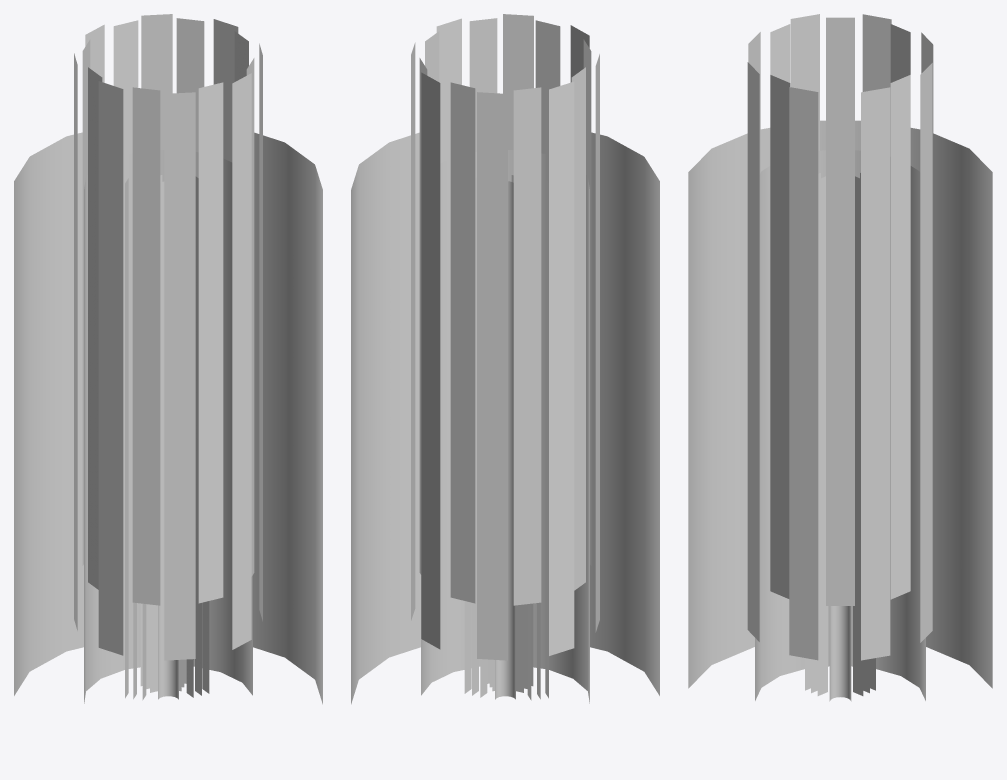
The model's file is SNOW_CYLINDER.glb.
3 views of the same model, side by side, from view 1: azimuth 30°, elevation 25°; view 2: azimuth 150°, elevation 25°; view 3: azimuth 270°, elevation 25° (orthographic).
Parts seen in each view (by area): view 1: S0, SNOW_0, SNOW_1, SNOW5, SNOW3, SNOW2, SNOW4; view 2: S0, SNOW_0, SNOW_1, SNOW5, SNOW2, SNOW3, SNOW4; view 3: S0, SNOW_0, SNOW_1, SNOW4, SNOW5.
Part boxes in pixels (left/top/right/bottom): S0: left=74, top=14, right=262, bottom=660; SNOW_0: left=14, top=132, right=322, bottom=704; SNOW_1: left=84, top=150, right=252, bottom=703; SNOW5: left=158, top=181, right=178, bottom=699; SNOW3: left=133, top=176, right=201, bottom=699; SNOW2: left=125, top=178, right=209, bottom=698; SNOW4: left=142, top=175, right=193, bottom=700; S0: left=411, top=14, right=599, bottom=660; SNOW_0: left=351, top=132, right=659, bottom=704; SNOW_1: left=421, top=150, right=589, bottom=703; SNOW5: left=495, top=181, right=515, bottom=699; SNOW2: left=464, top=178, right=548, bottom=698; SNOW3: left=472, top=177, right=540, bottom=699; SNOW4: left=480, top=175, right=531, bottom=700; S0: left=747, top=14, right=933, bottom=660; SNOW_0: left=688, top=120, right=992, bottom=688; SNOW_1: left=755, top=150, right=925, bottom=700; SNOW4: left=817, top=176, right=863, bottom=695; SNOW5: left=829, top=606, right=851, bottom=701.
Size of the model in its own units: 107 by 251 by 107.
Materials: 10 (10 with a texture image).
